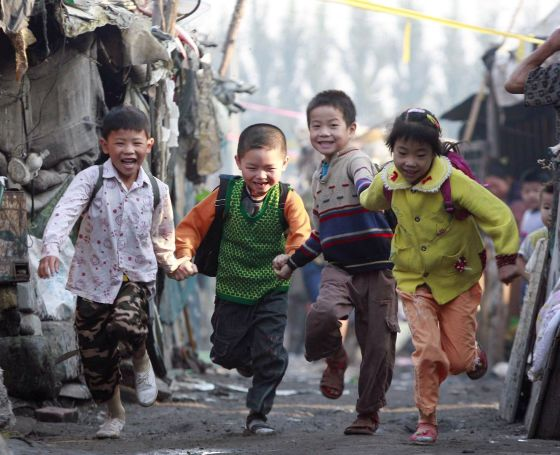Humano: (378, 104, 520, 446), (38, 107, 171, 435), (186, 117, 303, 443), (297, 84, 389, 438), (538, 181, 560, 266), (522, 173, 542, 253)
